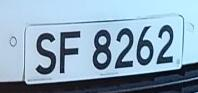2: (112, 23, 136, 72), (154, 17, 175, 72)
6: (135, 21, 154, 71)
8: (91, 25, 114, 74)
F: (57, 27, 83, 78)
S: (31, 27, 58, 78)
